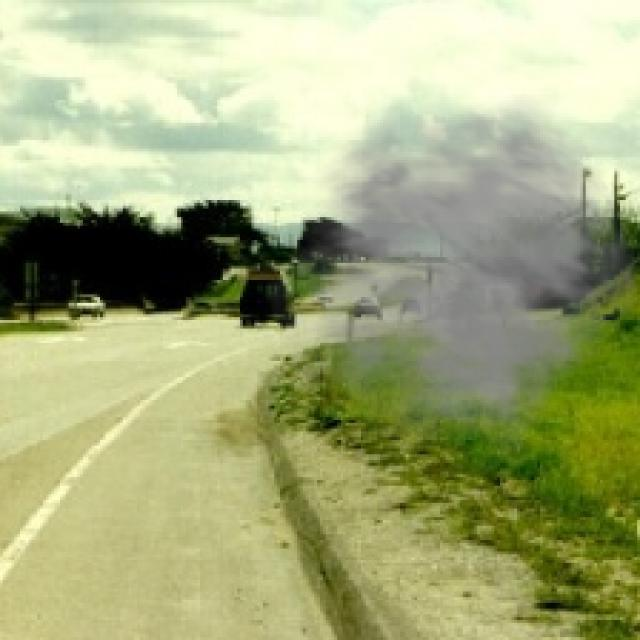Smoke: (262, 94, 638, 466)
